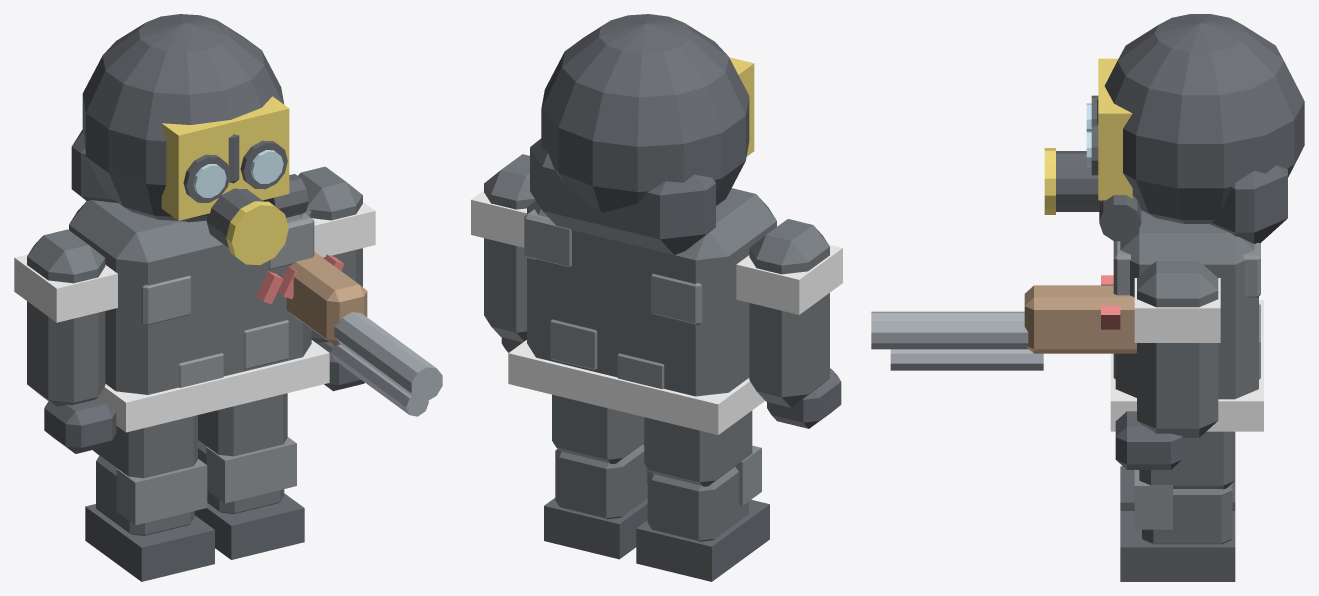
Rendered from shotgun@toxico.glb.
3 views of the same model, side by side, from view 1: azimuth 30°, elevation 25°; view 2: azimuth 150°, elevation 25°; view 3: azimuth 270°, elevation 25° (orthographic). The views are drawn at different scales.
Parts seen in each view (by area): view 1: main, shinl, shinr, legl, legr; view 2: main, shinl, shinr, legl, legr; view 3: main, shinr, legr, shinl.
Boxes of the visible parts, bbox=[...] form: main: bbox=[14, 14, 442, 453]; shinl: bbox=[85, 456, 214, 581]; shinr: bbox=[194, 437, 304, 559]; legl: bbox=[93, 415, 197, 478]; legr: bbox=[198, 393, 287, 456]; main: bbox=[471, 14, 842, 434]; shinl: bbox=[636, 445, 769, 581]; shinr: bbox=[544, 443, 649, 559]; legl: bbox=[644, 410, 752, 486]; legr: bbox=[552, 394, 644, 464]; main: bbox=[871, 14, 1304, 469]; shinr: bbox=[1120, 470, 1235, 581]; legr: bbox=[1139, 431, 1235, 489]; shinl: bbox=[1120, 466, 1235, 510].
Bounding box in the file's own units: 0.391 × 0.5975 × 0.4525.
